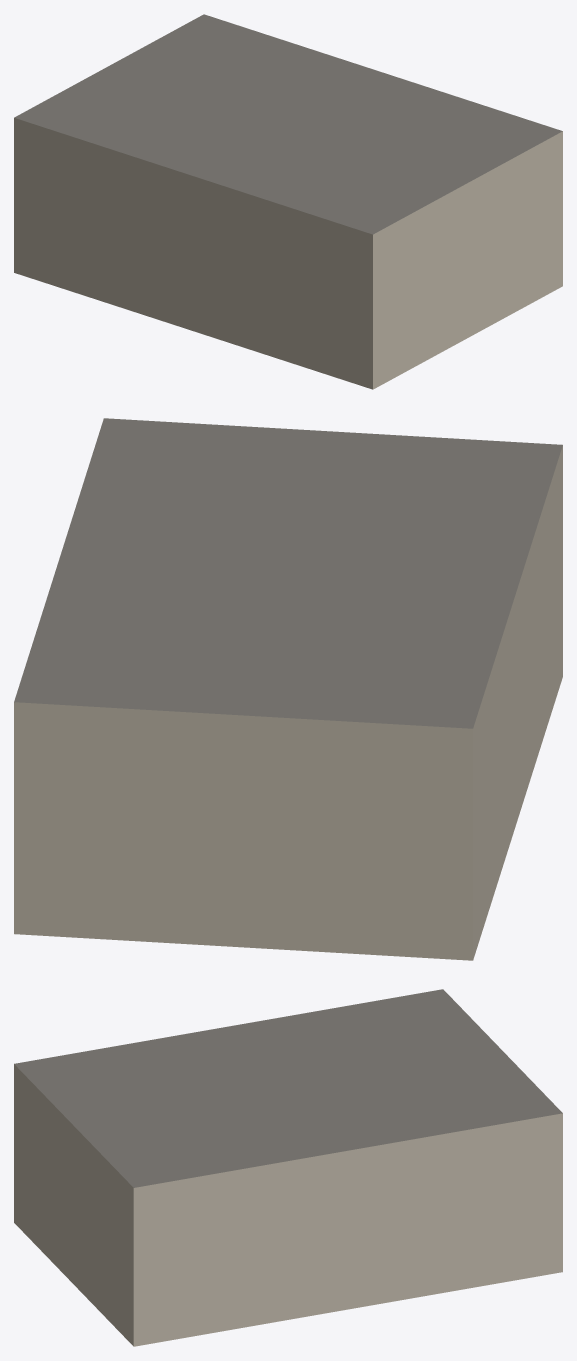
The picture shows the model from 3 angles, top to bottom: view 1: azimuth 30°, elevation 25°; view 2: azimuth 150°, elevation 25°; view 3: azimuth 270°, elevation 25°; orthographic projection. The views are drawn at different scales.
Visible parts, largest first — view 1: HP-w1287260196; view 2: HP-w1287260196; view 3: HP-w1287260196.
Boxes of the visible parts, box(x1,y1,x2,y2) form: HP-w1287260196: box(14, 14, 562, 389); HP-w1287260196: box(14, 418, 562, 960); HP-w1287260196: box(14, 989, 562, 1346).
Size of the model in its own units: 48.33 by 18 by 56.39.
